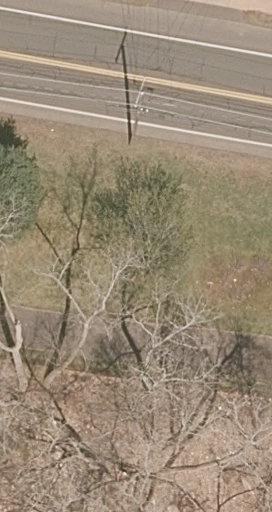DT: (133, 78, 146, 123)
